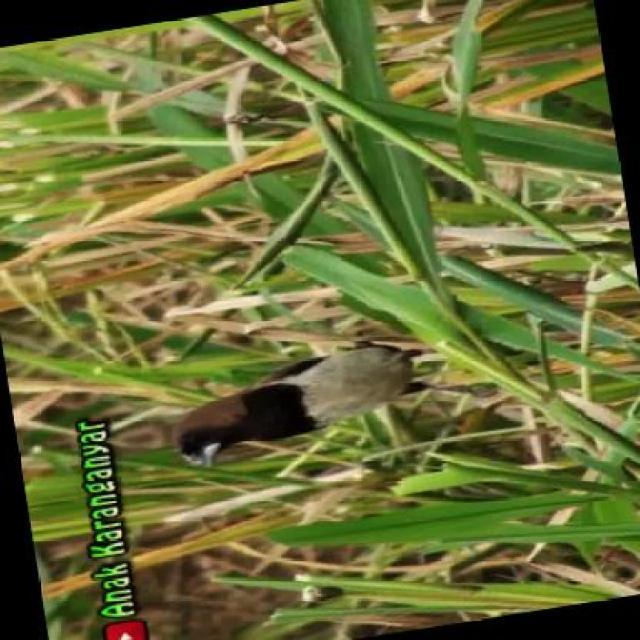Bird: (152, 332, 449, 470)
